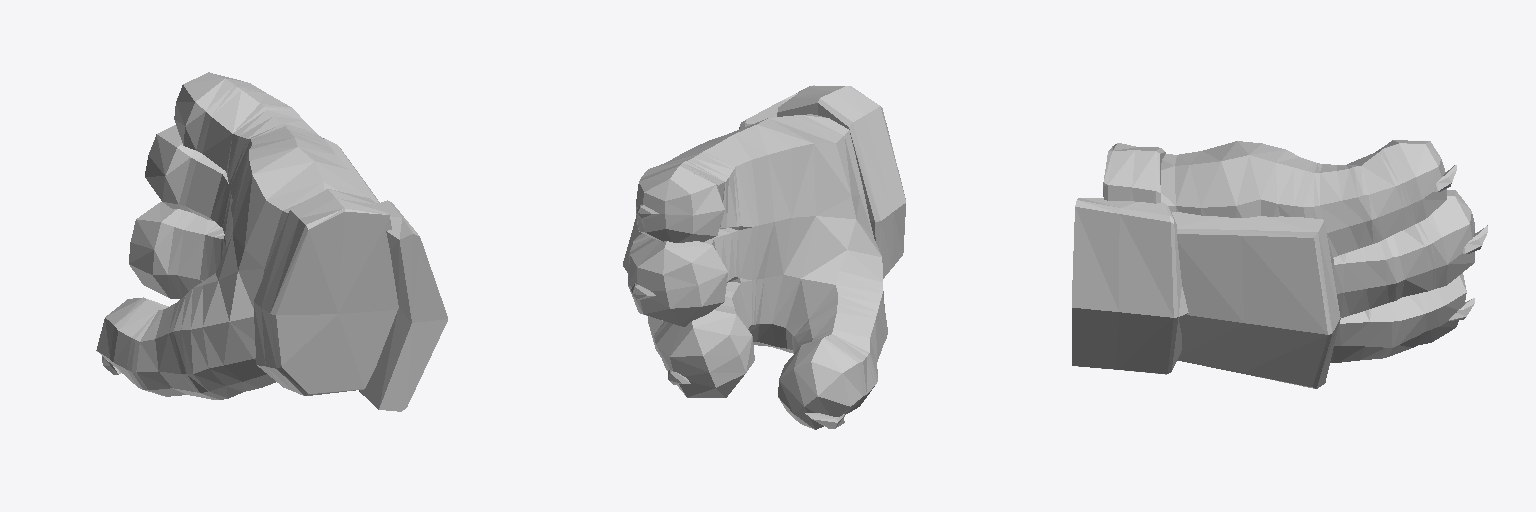
The model's file is cathand.obj.
3 views of the same model, side by side, from view 1: azimuth 30°, elevation 25°; view 2: azimuth 150°, elevation 25°; view 3: azimuth 270°, elevation 25° (orthographic).
Visible parts, largest first — view 1: hero_fpp_101_A_L; view 2: hero_fpp_101_A_L; view 3: hero_fpp_101_A_L.
Boxes of the visible parts, x1=… form: hero_fpp_101_A_L: x1=96, y1=72, x2=447, y2=411; hero_fpp_101_A_L: x1=623, y1=85, x2=905, y2=429; hero_fpp_101_A_L: x1=1072, y1=140, x2=1487, y2=388.
Size of the model in its own units: 0.25 by 0.2503 by 0.3726.